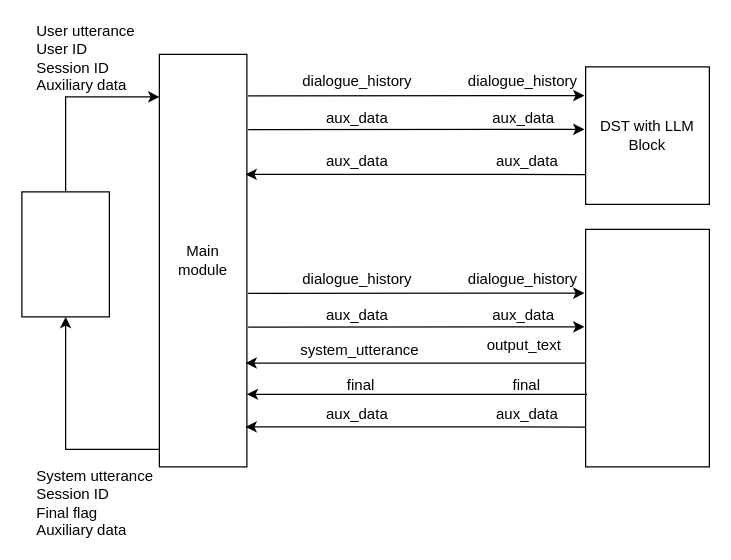
The diagram is 731 pixels wide and 560 high, and some of its shapes have lost their labels. The shapes that lost their labels are listed below. From the top down, each one's box as (x1, y1, x2, y2) in pixels, then its label:
(21, 191, 109, 317): Frontend or other app
(584, 228, 709, 467): STN Manager Block
